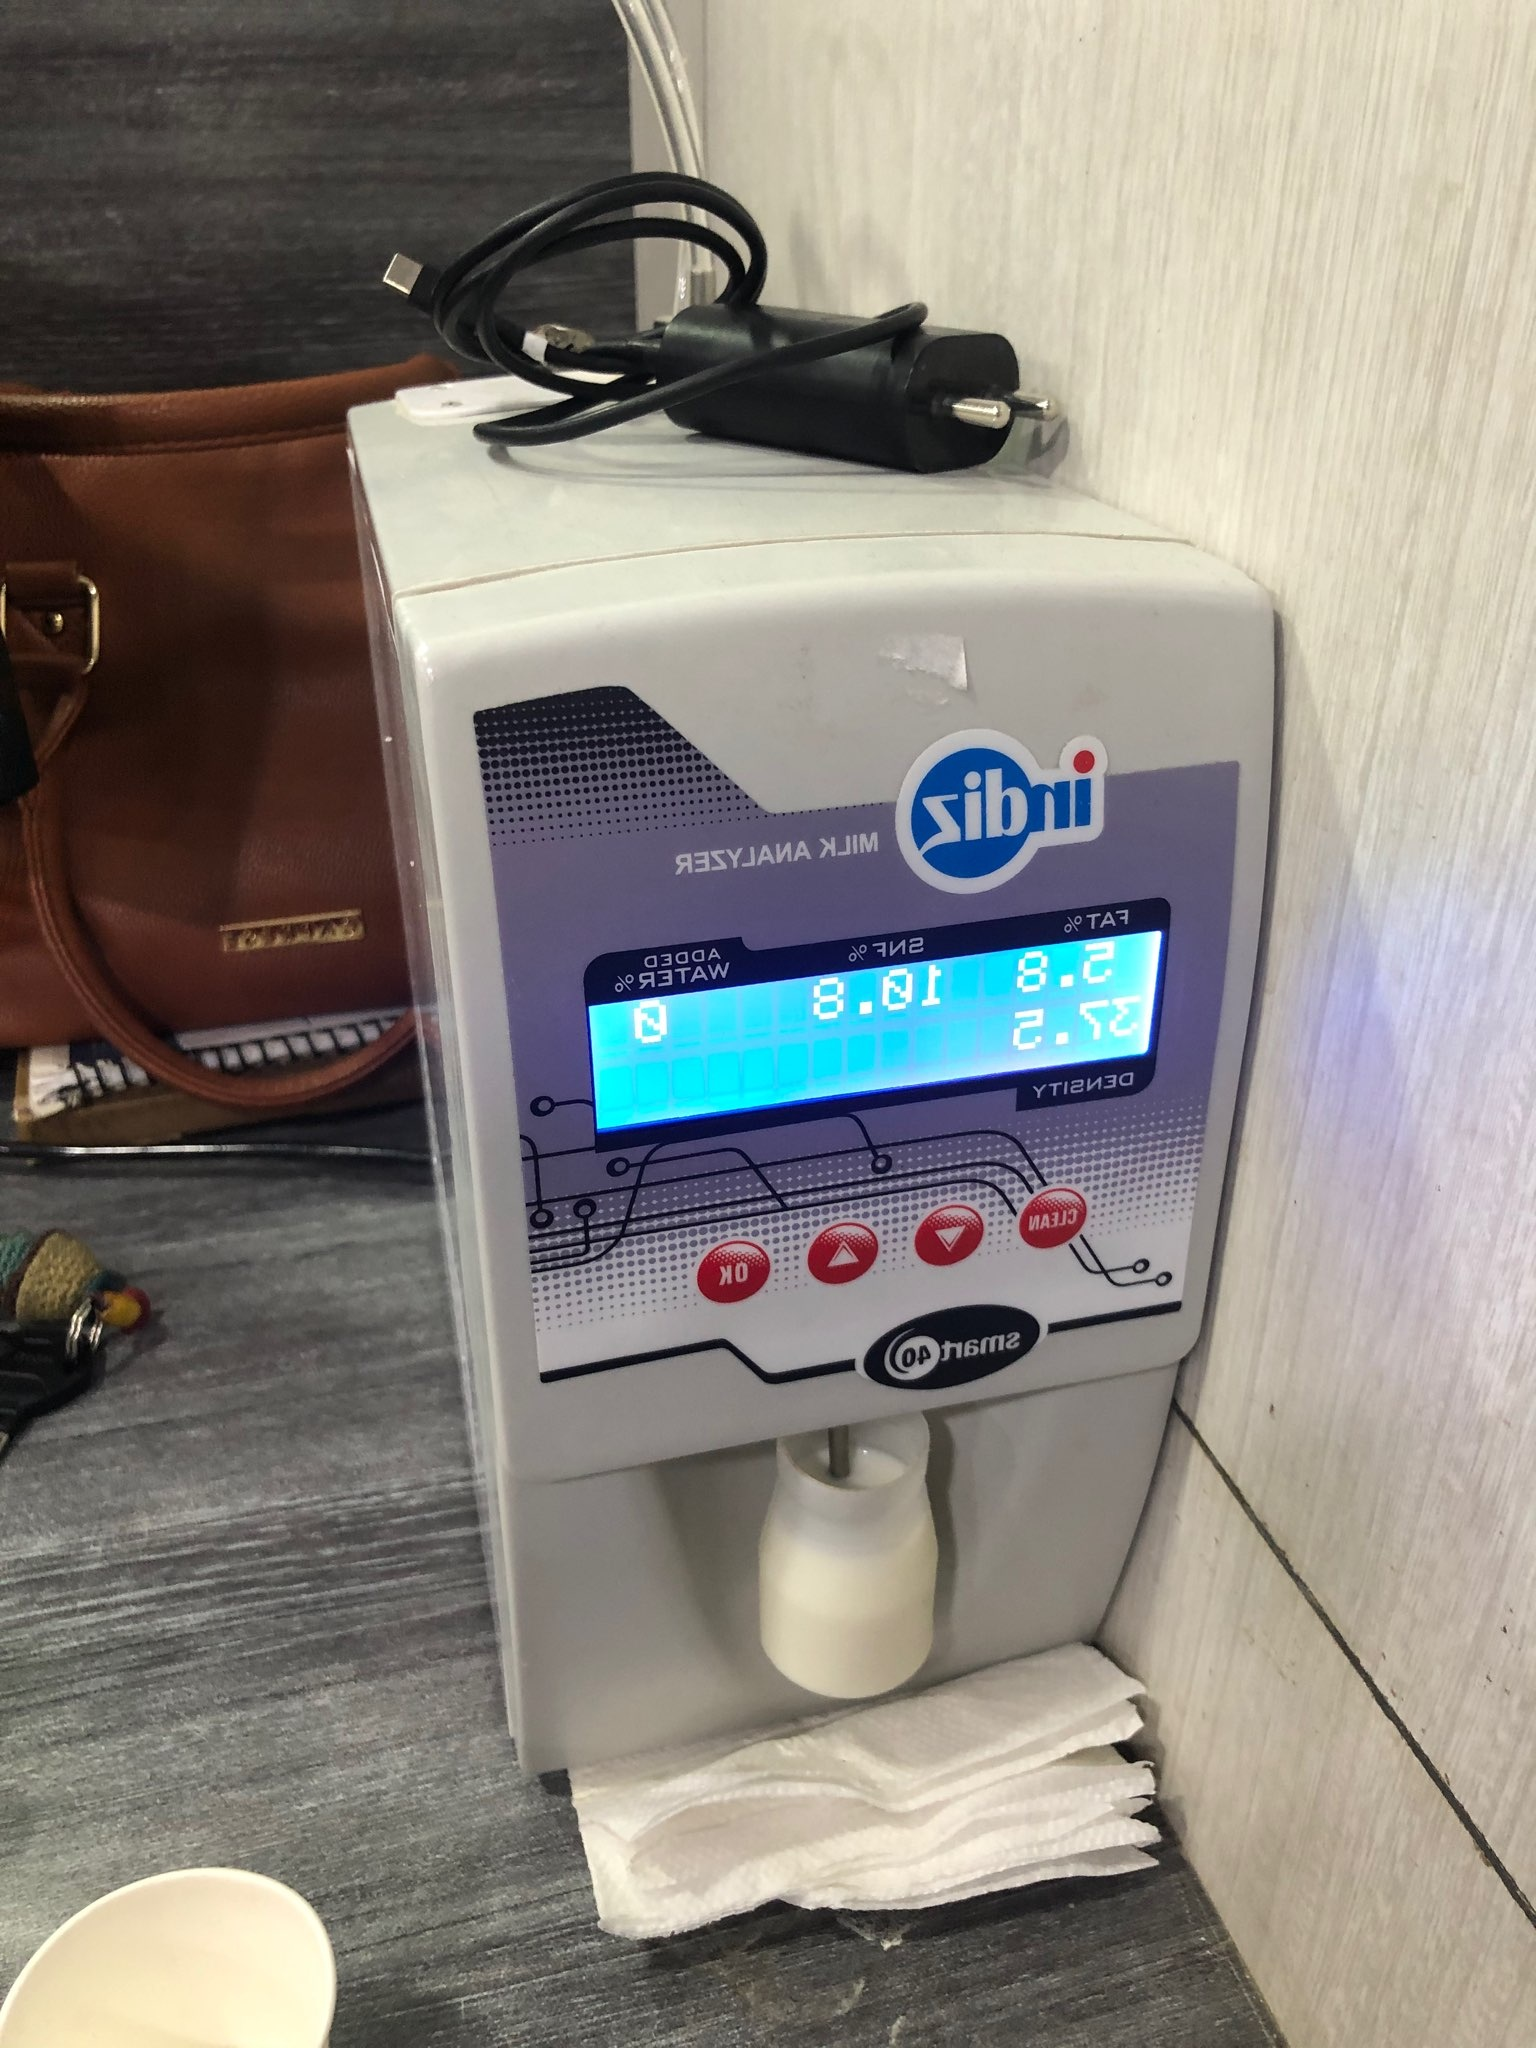lcd: (566, 892, 1184, 1158)
